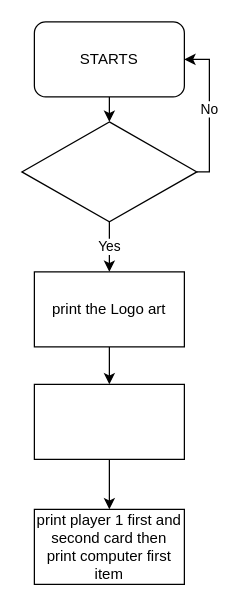
Image size: 241x606. Some labels were removed from this diagram. The box of each missing label's shape, as (x1, y1, x2, y2) in pixels:
Message Do u want to play?: (21, 121, 197, 222)
reads the list and chose ramdonly 2 items in a list for player1 and computer: (33, 383, 184, 459)
